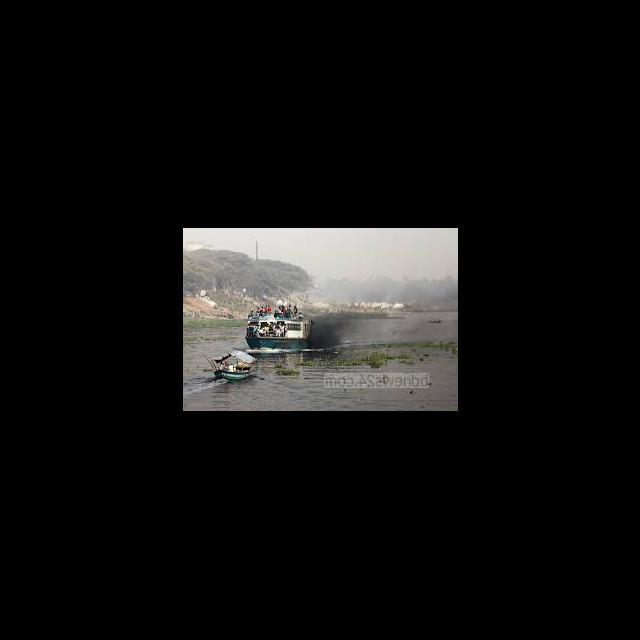Smoke: (307, 316, 342, 349)
